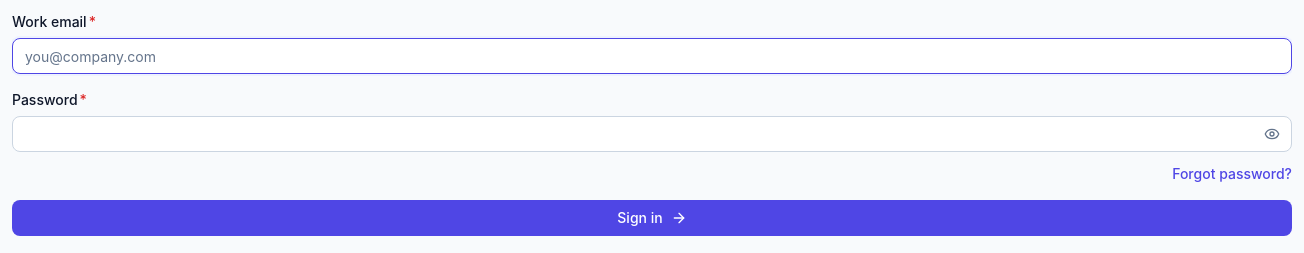
it: SignInForm › prevents duplicate submissions while a request is in flight
In the field labelled "Work email*": (652, 56) [12,38,1292,74], type "ada@example.com"
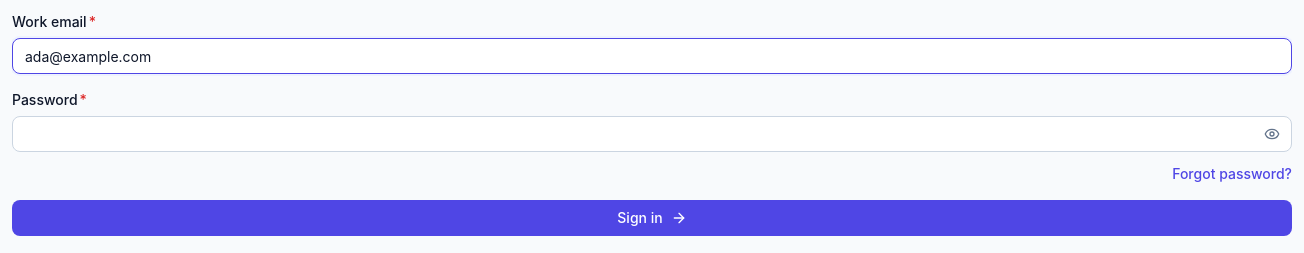
In the password field labelled "Password*": (652, 134) [12,116,1292,152], type "secret-password"
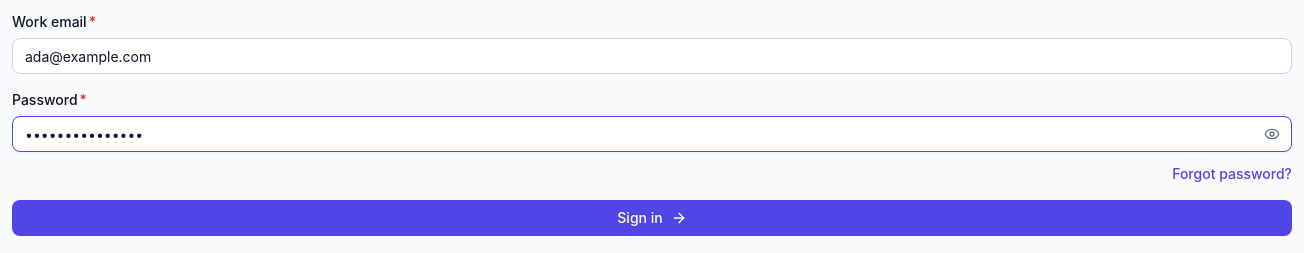
Click the button "Sign in": (652, 218) [12,200,1292,236]
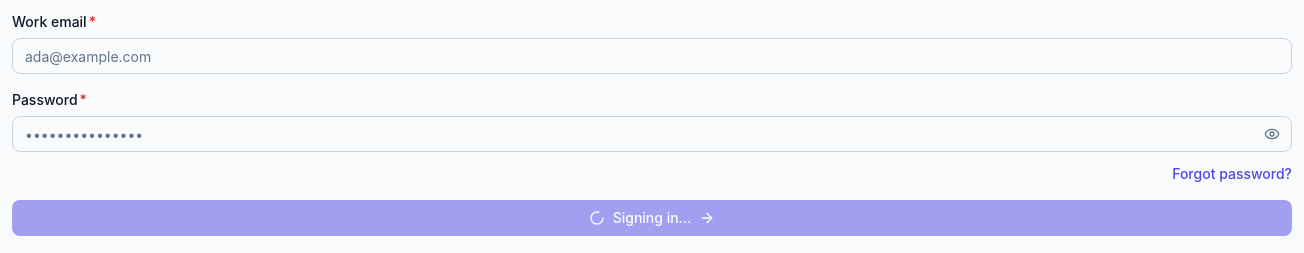
Click the button named "Sign in": (652, 218) [12,200,1292,236]
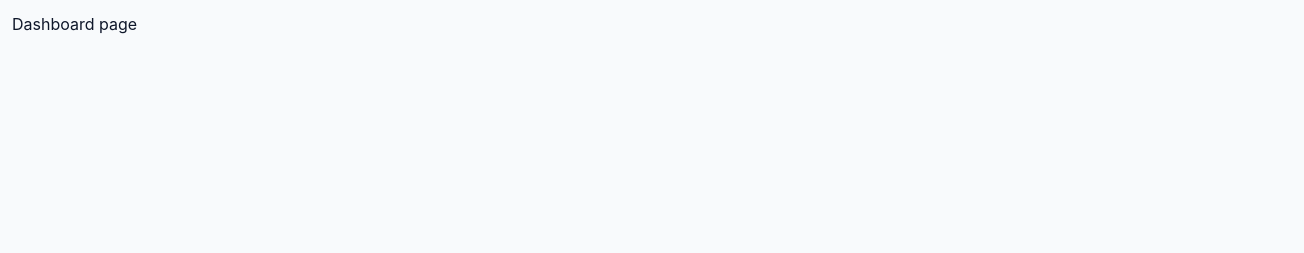
Check: the text "Dashboard page" is shown, box [12,14,137,34]
